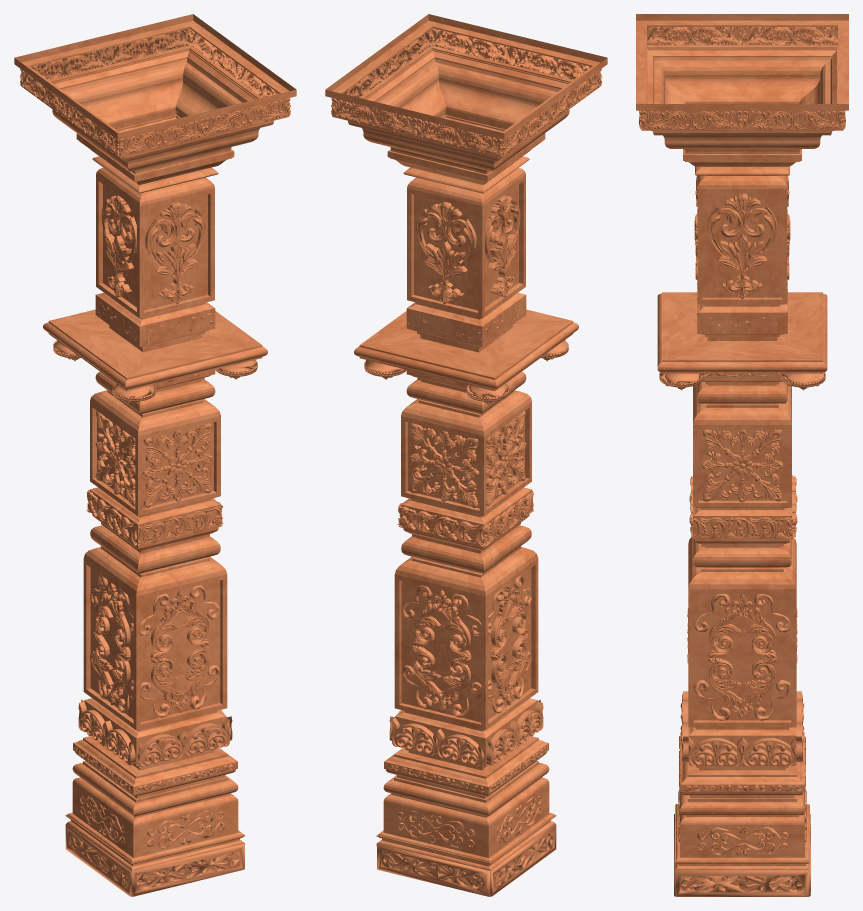
Rendered from pillar.glb.
3 renders of one model, left to right at view 1: azimuth 30°, elevation 25°; view 2: azimuth 150°, elevation 25°; view 3: azimuth 270°, elevation 25°, orthographic. The views are drawn at different scales.
Visible parts, largest first — view 1: Object_6; view 2: Object_6; view 3: Object_6.
Part boxes in pixels (x1=…): Object_6: x1=14, y1=14, x2=296, y2=896; Object_6: x1=325, y1=14, x2=607, y2=896; Object_6: x1=636, y1=14, x2=848, y2=896.
Size of what is drawn, in the model's own units: 0.6859 by 2.88 by 0.6859.
1 material, 1 textured.
